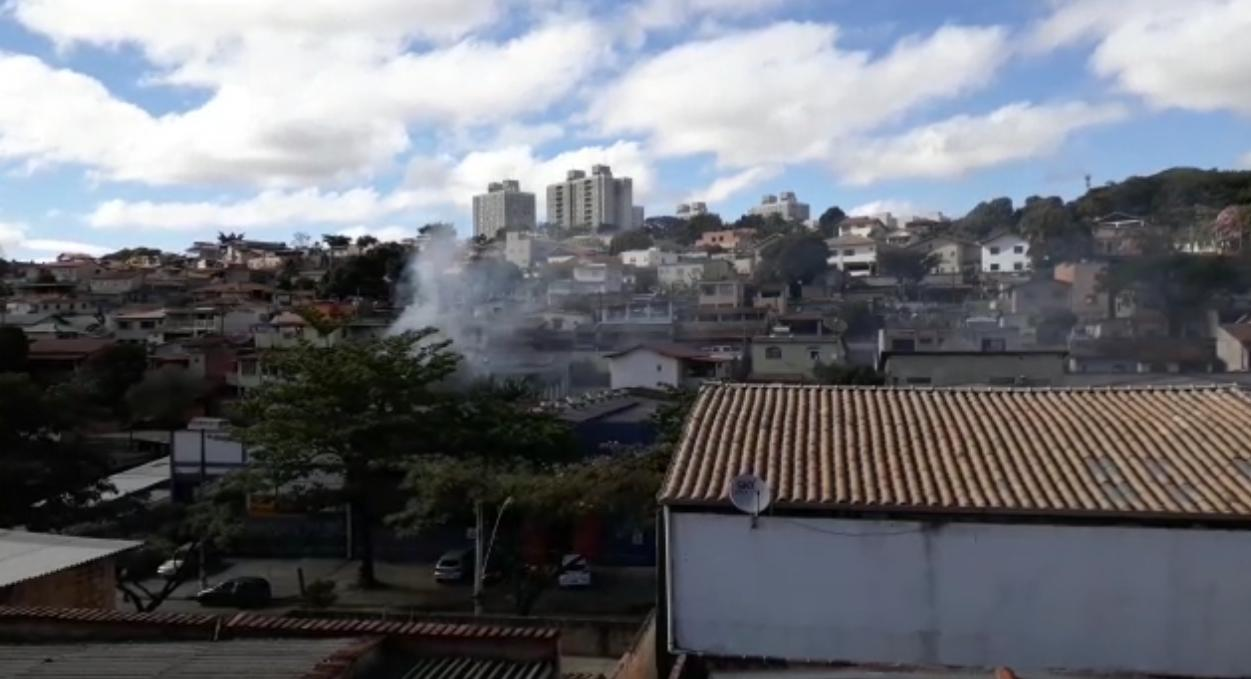smoke: (417, 248, 503, 340)
